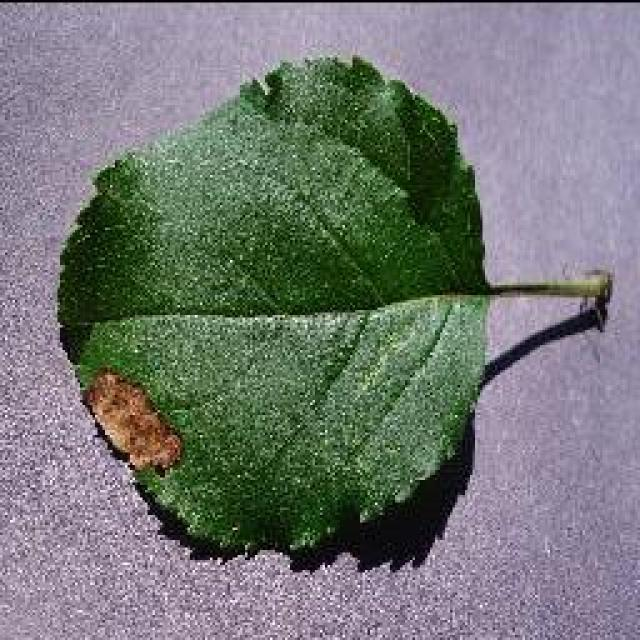Black_rot: (55, 50, 610, 560)
